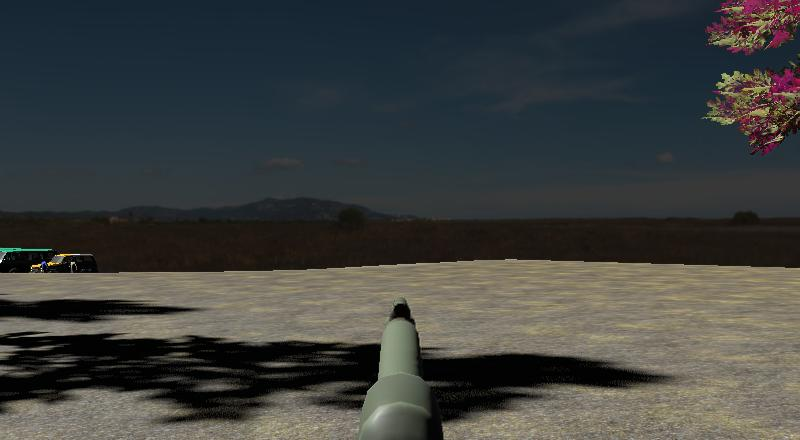car: (0, 248, 59, 275), (47, 252, 100, 275)
